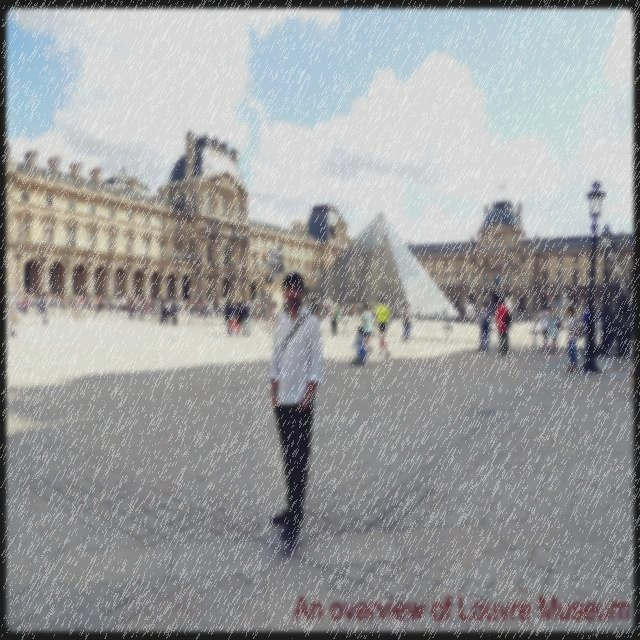pessoa: (266, 268, 326, 552), (373, 293, 392, 359), (564, 304, 578, 374), (495, 296, 511, 356), (348, 323, 368, 367), (361, 301, 376, 359), (476, 300, 492, 352), (548, 304, 564, 354), (582, 300, 596, 357), (6, 286, 20, 338), (539, 304, 553, 354), (628, 350, 640, 402), (227, 299, 240, 337), (242, 296, 254, 336), (51, 294, 76, 312), (212, 294, 226, 326), (268, 300, 280, 336), (402, 301, 412, 343), (328, 297, 338, 339), (234, 300, 245, 337), (269, 246, 283, 272), (225, 296, 234, 334), (40, 290, 49, 326), (308, 295, 320, 319), (192, 296, 205, 318), (128, 294, 142, 314), (280, 300, 290, 327), (74, 294, 84, 320), (84, 294, 97, 314), (390, 304, 403, 322), (368, 300, 378, 323), (162, 298, 170, 326), (158, 298, 166, 326), (140, 294, 150, 316), (148, 298, 160, 316), (120, 292, 128, 318), (204, 299, 213, 321), (578, 305, 586, 329), (255, 301, 263, 322), (171, 298, 177, 326), (35, 292, 42, 316), (95, 294, 103, 314), (168, 296, 174, 322), (524, 310, 538, 321), (171, 298, 177, 322), (252, 300, 258, 323), (258, 300, 264, 322), (115, 296, 122, 314), (180, 299, 186, 320), (316, 300, 322, 321), (22, 296, 28, 316), (109, 296, 115, 316), (101, 294, 107, 314), (28, 292, 35, 309), (352, 303, 358, 321), (188, 298, 194, 316), (105, 296, 111, 314), (416, 306, 422, 322), (348, 304, 353, 322), (596, 305, 602, 319), (515, 308, 520, 324), (509, 308, 514, 324), (464, 308, 469, 324), (388, 306, 392, 326), (468, 306, 472, 324), (356, 304, 362, 316), (342, 304, 349, 314), (338, 303, 342, 318), (322, 304, 328, 312), (461, 308, 466, 316), (574, 303, 578, 311)
